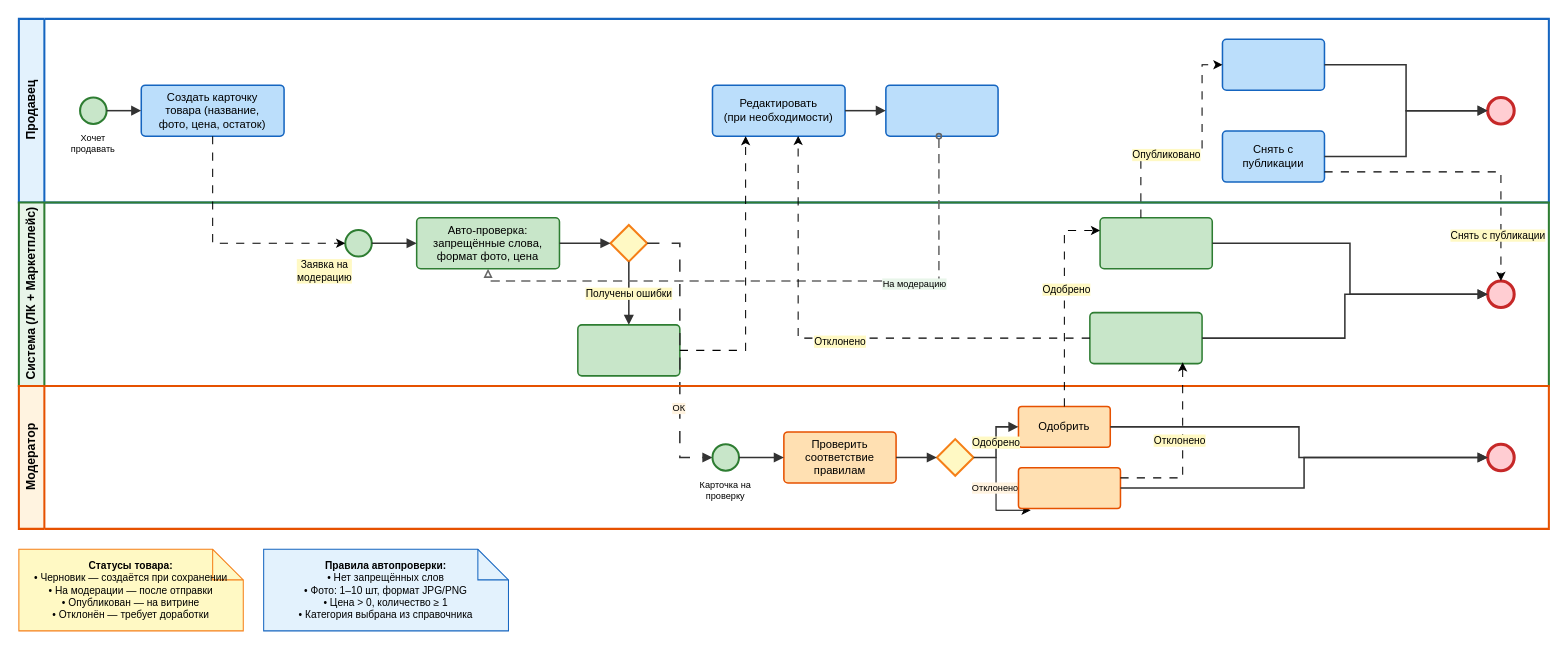
Image size: 1567x649. Some labels were removed from this diagram. The shapes that lost their labels are listed below. From the top down, each one's box as (x1, y1, x2, y2) in pixels, then its label:
(1221, 38, 1325, 91): Проверить статус "Опубликовано"
(885, 84, 998, 136): Отправить на модерацию
(1099, 217, 1213, 269): Опубликовать на витрине
(577, 324, 680, 376): Сохранить черновик
(1089, 311, 1202, 364): Отклонить: уведомить продавца с причиной
(1017, 466, 1121, 509): Отклонить + указать причину
